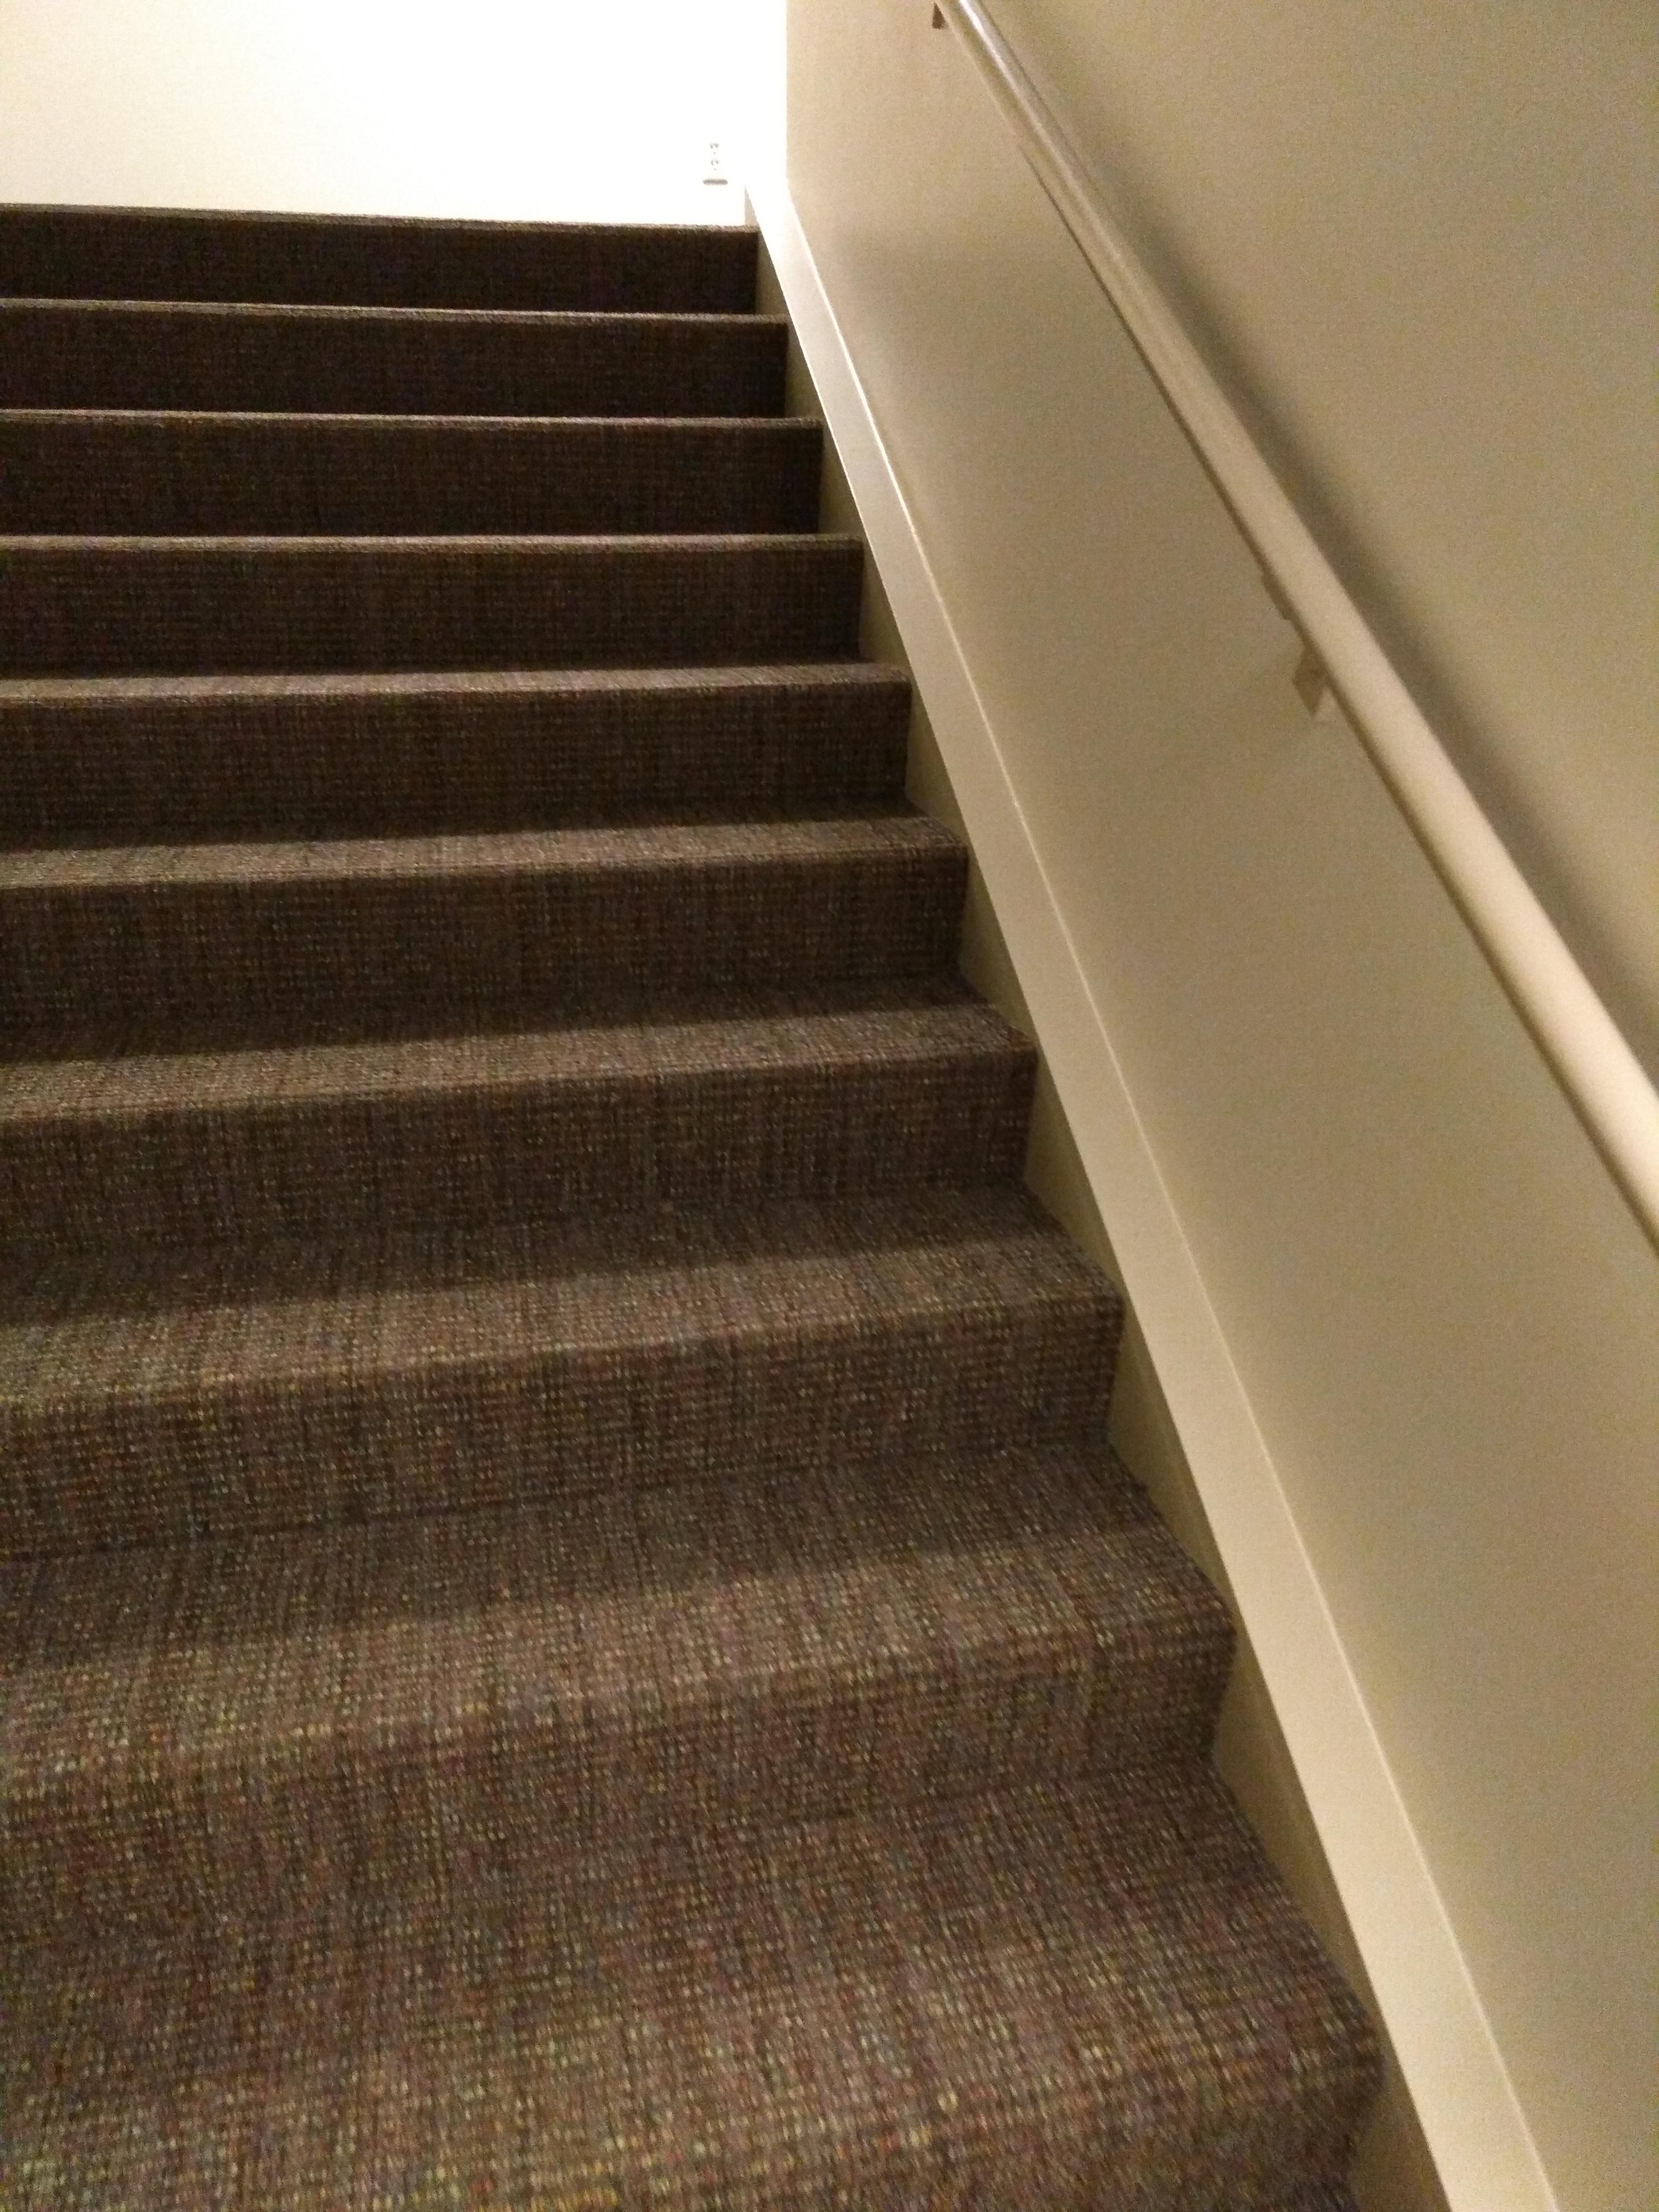stairs_up: (28, 162, 1342, 2184)
